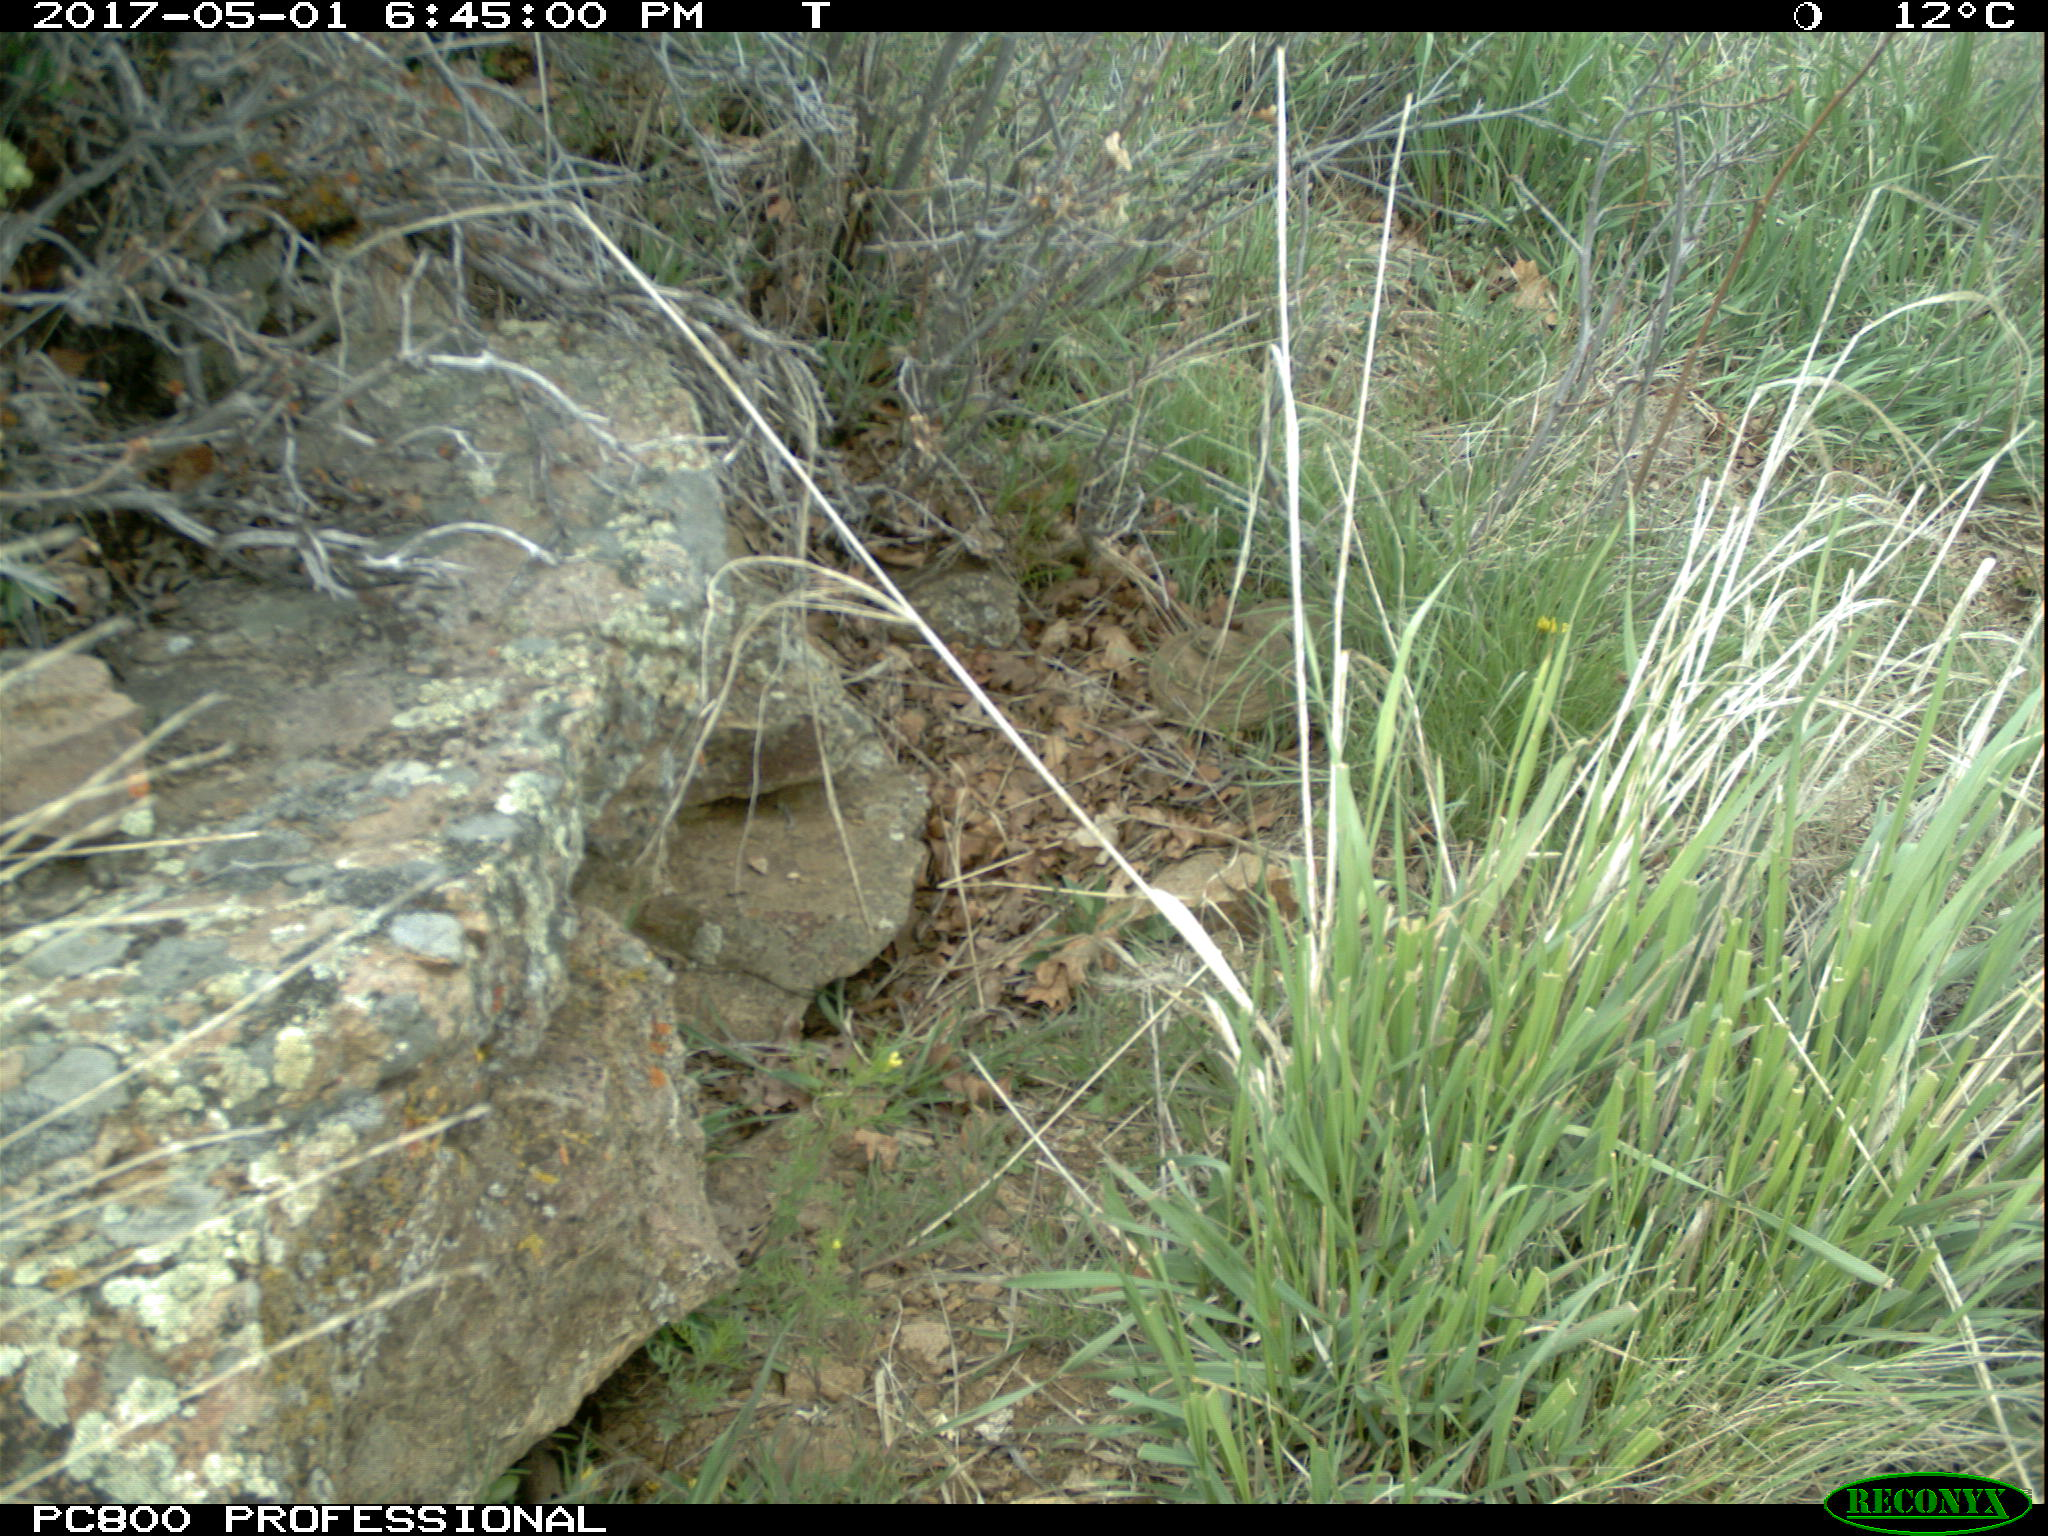snake: (1145, 600, 1338, 729)
